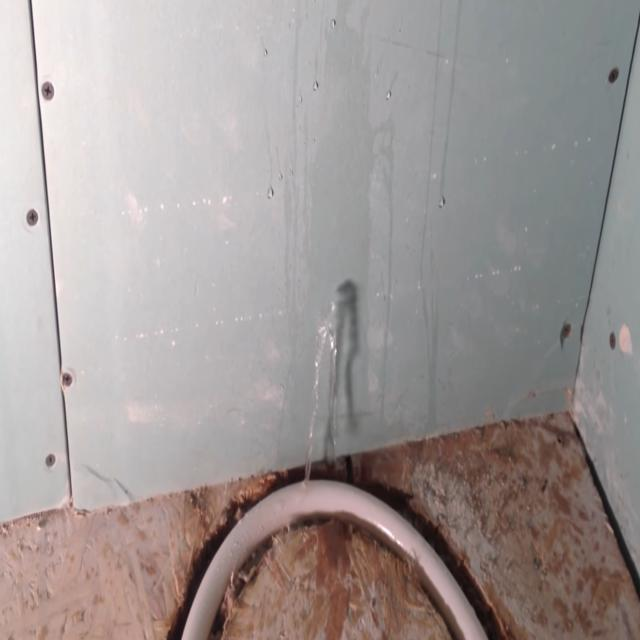leak: (305, 302, 338, 481)
